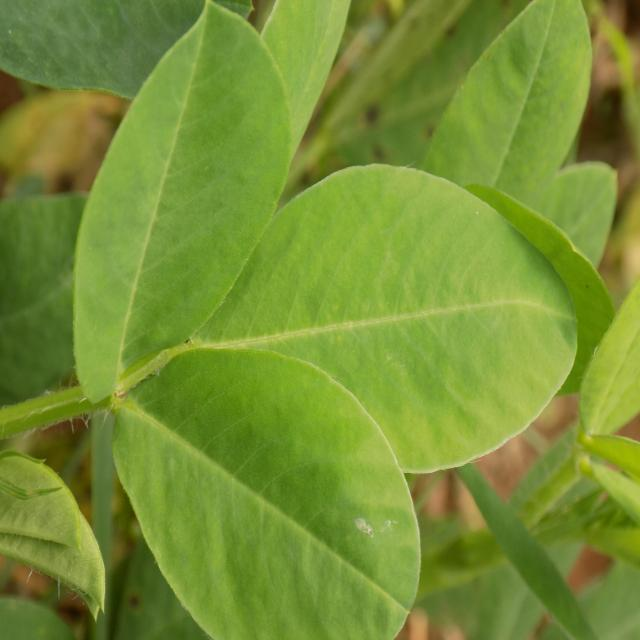Ground nut_healthy: (187, 158, 582, 475), (107, 344, 424, 635), (71, 0, 291, 417)
